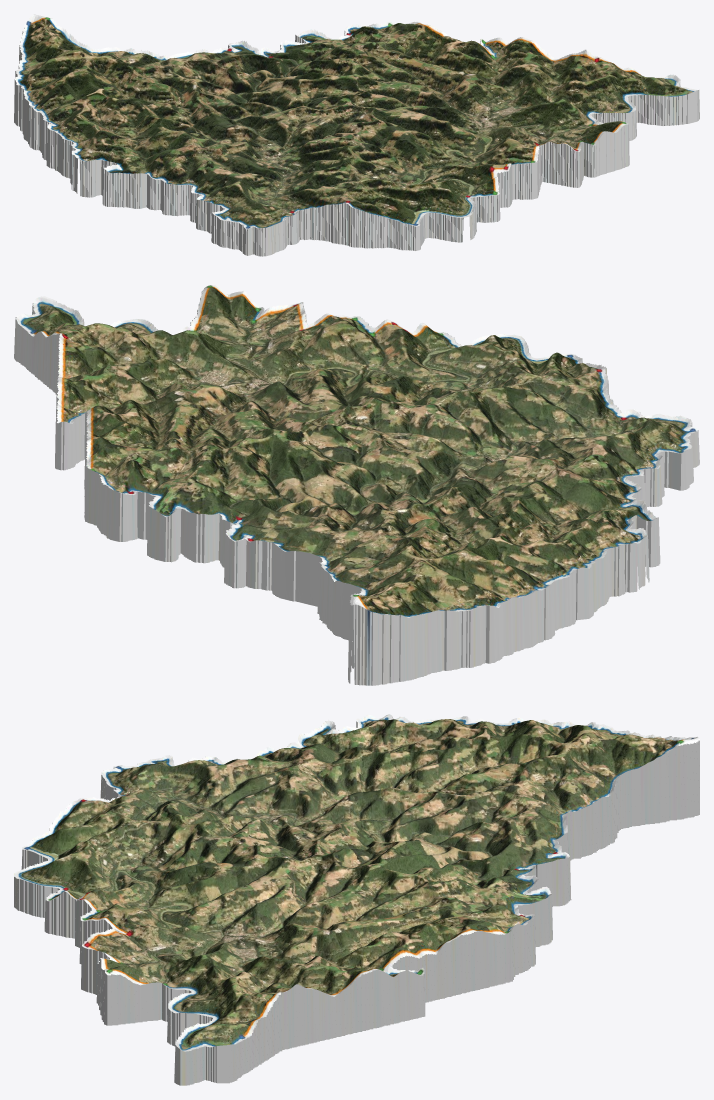
3 views of the same model, one above another, from view 1: azimuth 30°, elevation 25°; view 2: azimuth 150°, elevation 25°; view 3: azimuth 270°, elevation 25° (orthographic). The views are drawn at different scales.
Bounding box in the file's own units: 0.9999 × 0.1074 × 0.8881.
Materials: 1 (1 with a texture image).
